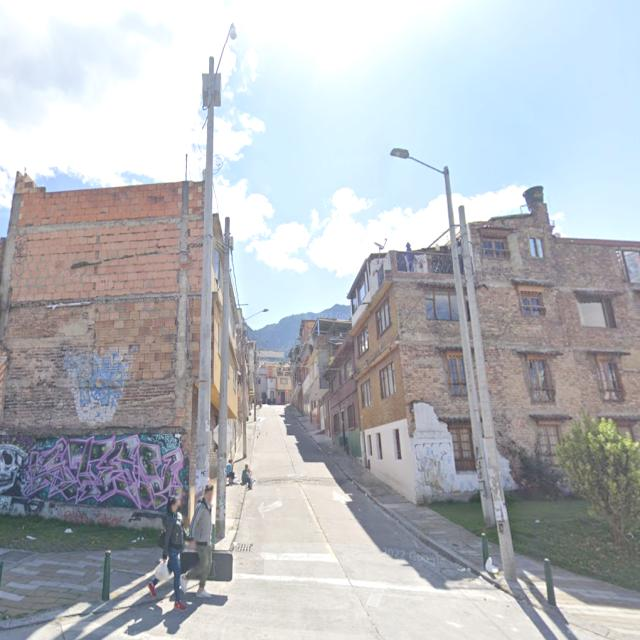fachada: (0, 174, 203, 523), (469, 187, 639, 485), (299, 319, 350, 429), (324, 337, 362, 458), (289, 320, 314, 413)
poste: (459, 206, 516, 580), (443, 167, 495, 526), (196, 57, 214, 502), (216, 218, 230, 538), (241, 322, 249, 458), (544, 559, 557, 606), (102, 551, 111, 601), (482, 533, 489, 569), (254, 343, 257, 425)
